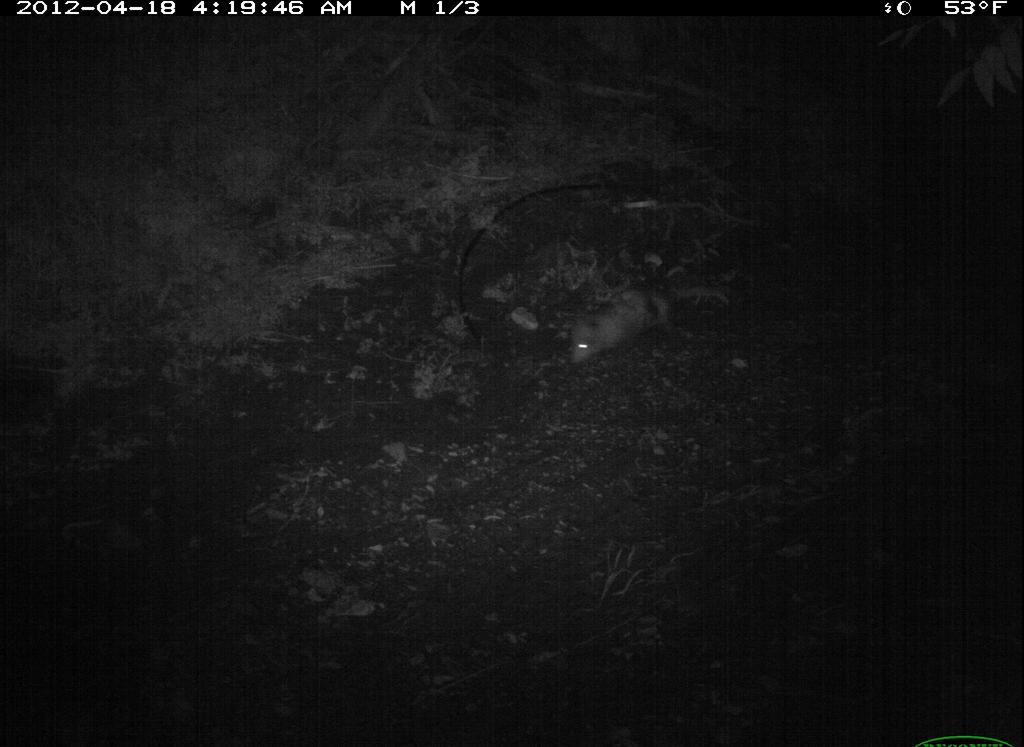opossum: (543, 270, 733, 376)
